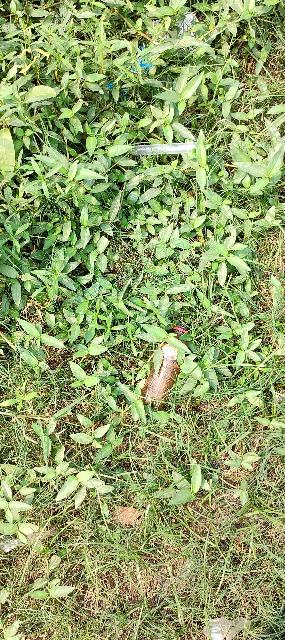bottle: (146, 315, 189, 416)
